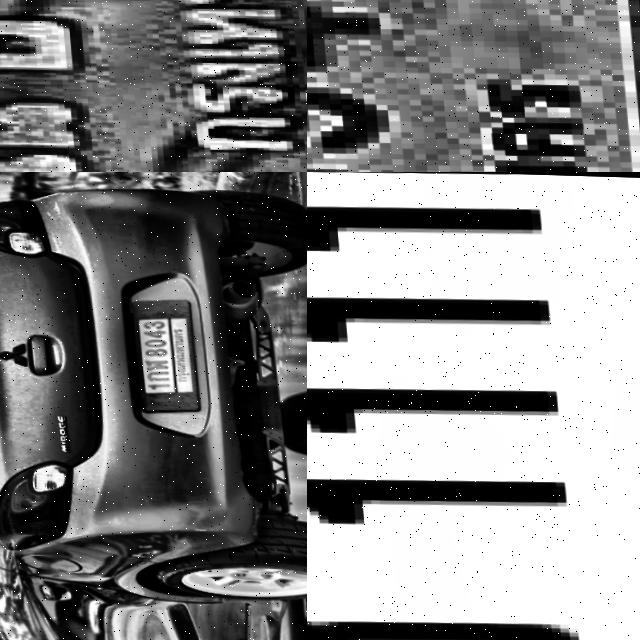license-plate: (307, 172, 640, 640), (307, 0, 640, 172), (0, 0, 307, 172), (124, 295, 195, 409)
